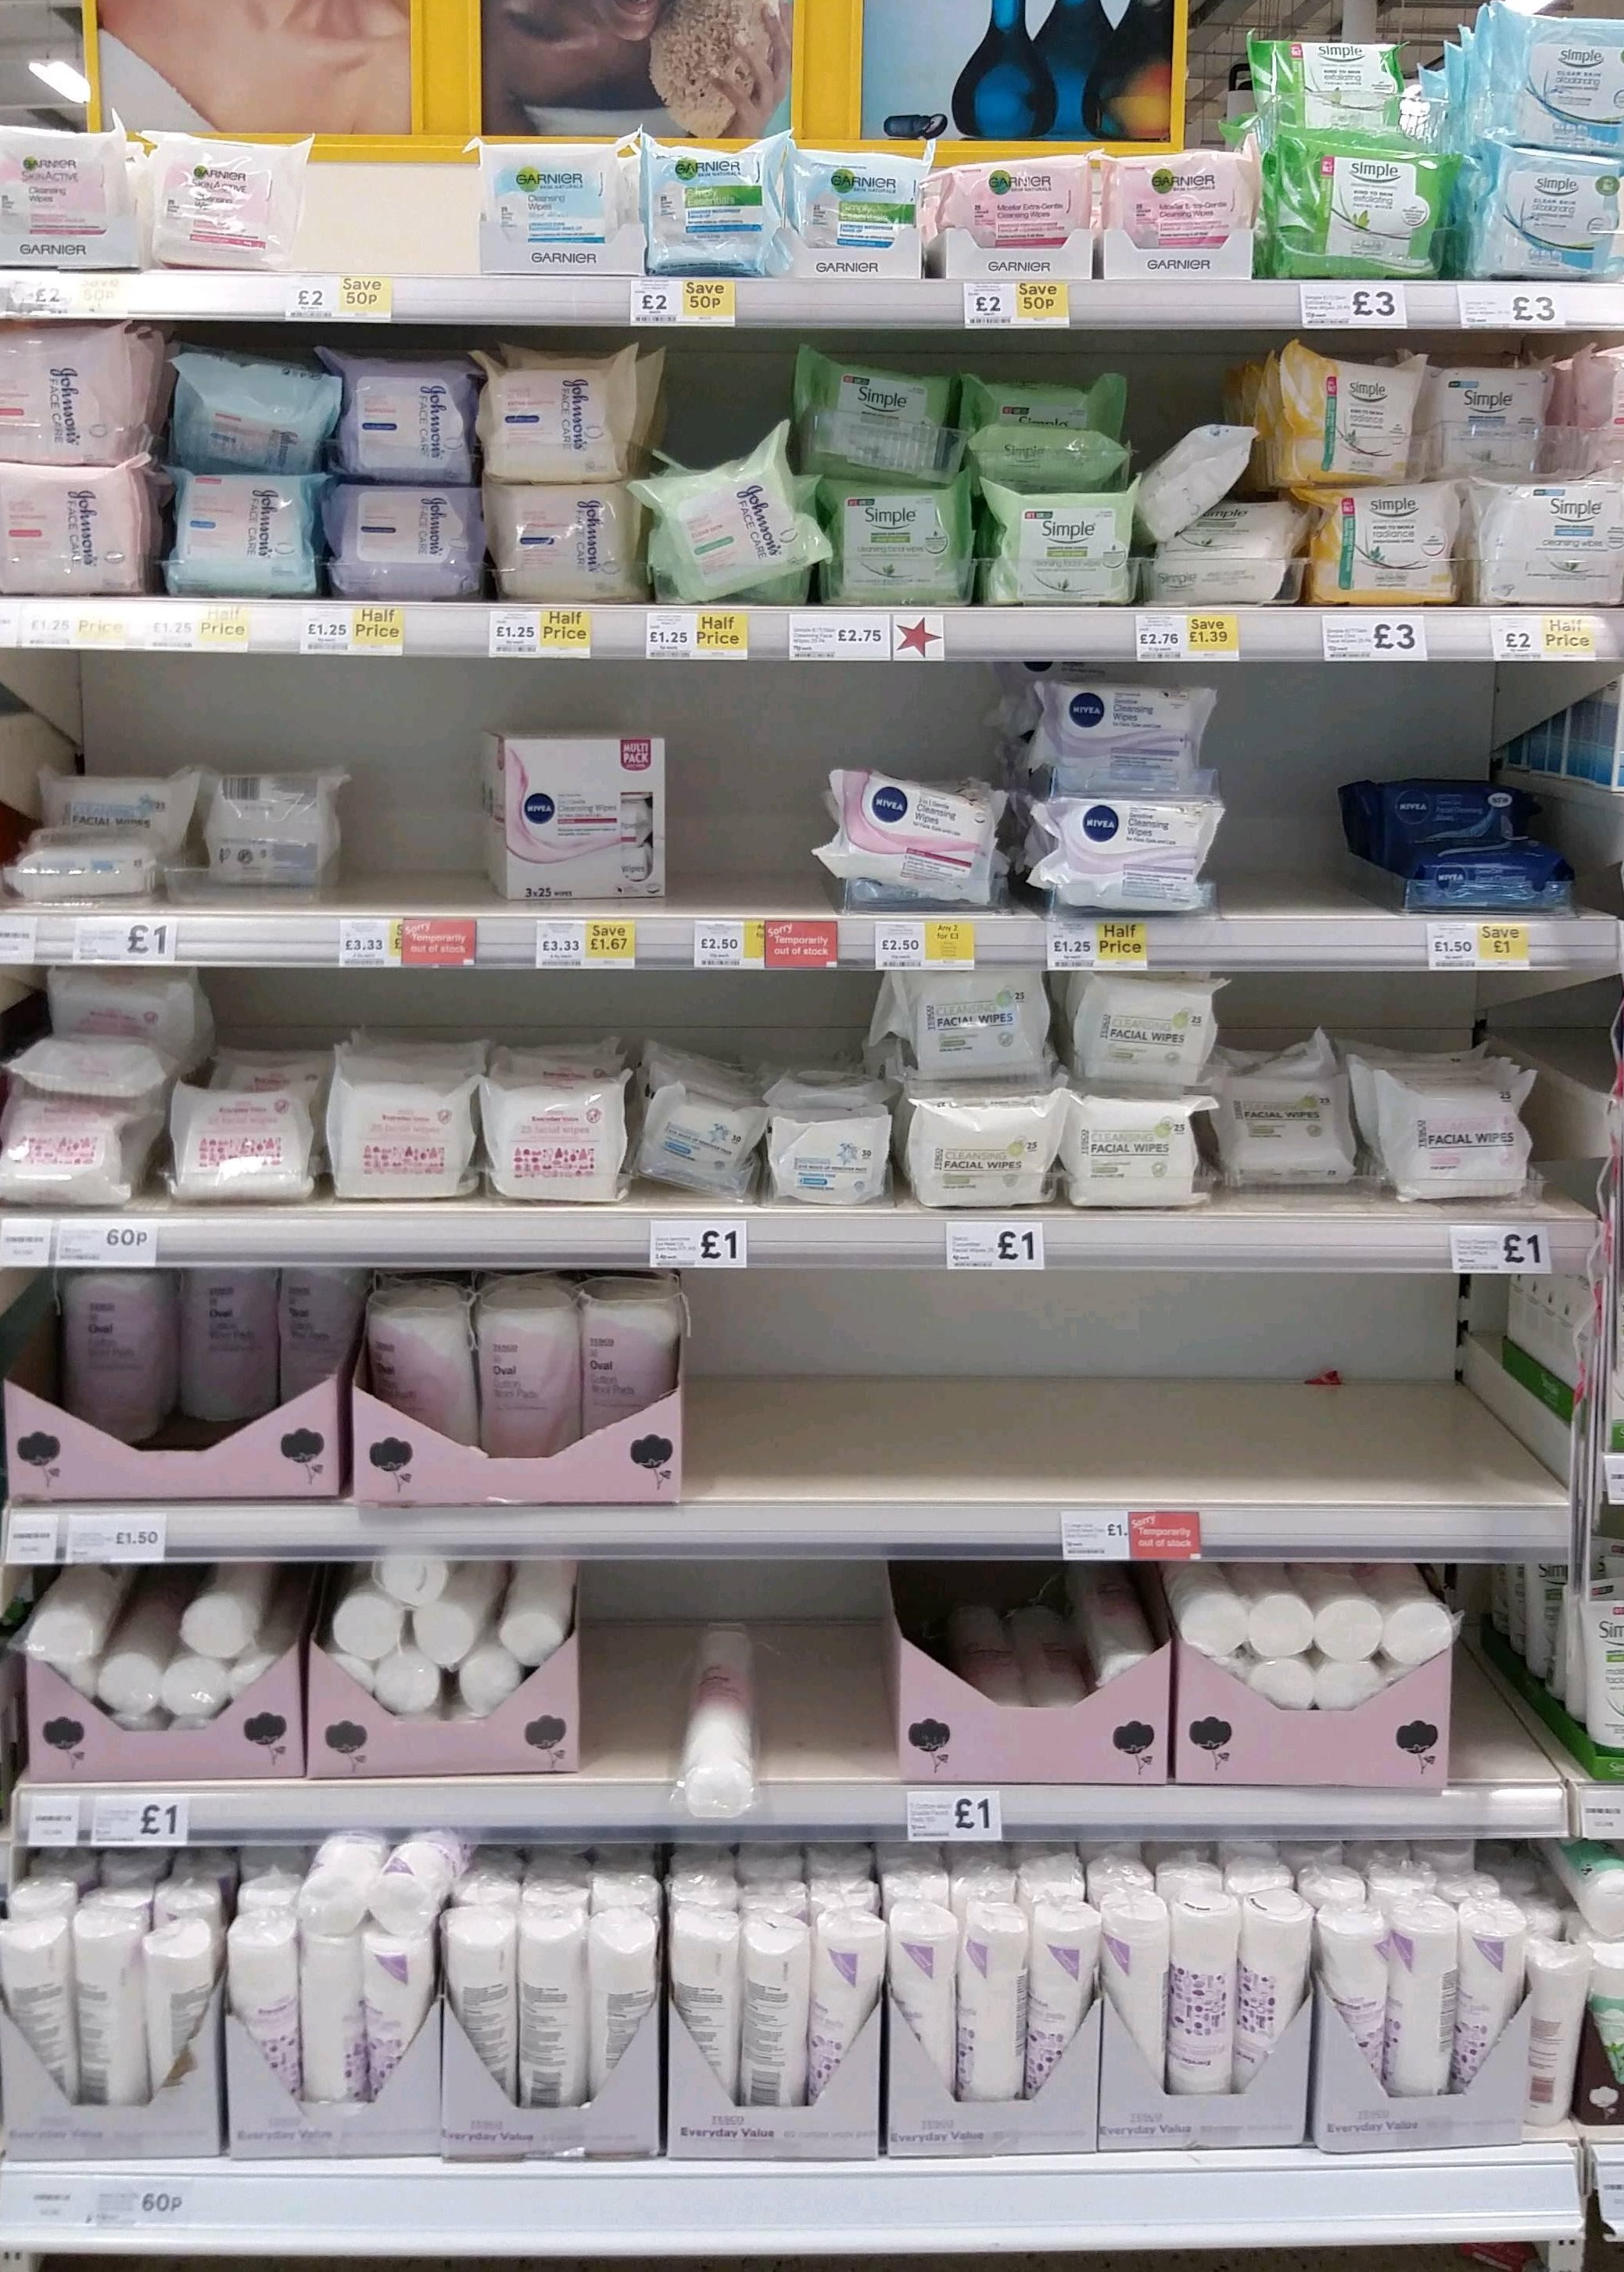empty: (714, 1267, 1504, 1471), (673, 692, 798, 905), (364, 701, 475, 896), (1234, 722, 1341, 901)
misalignment: (636, 445, 817, 597), (1139, 427, 1290, 596), (666, 1610, 770, 1826)
